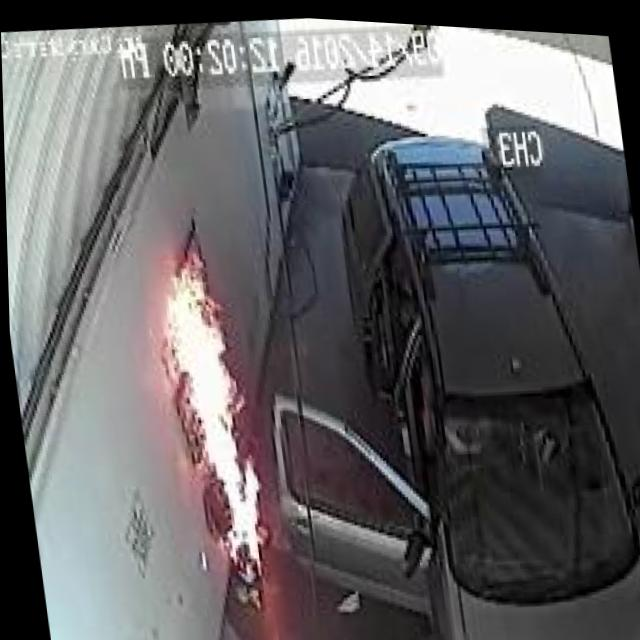fire: (139, 235, 279, 589)
